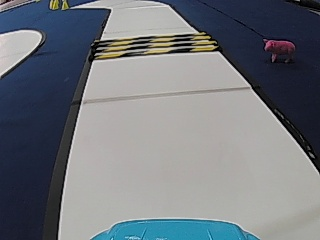bump: (83, 29, 223, 64)
